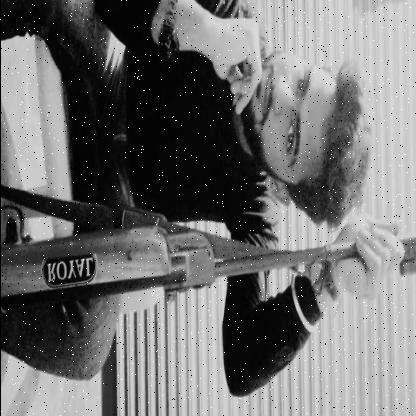rifle: (0, 218, 416, 310)
